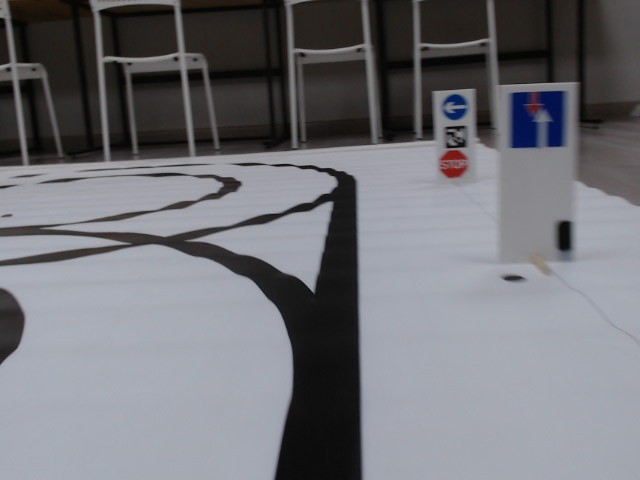Stop: (438, 148, 469, 176)
priority_movement: (509, 89, 571, 151)
